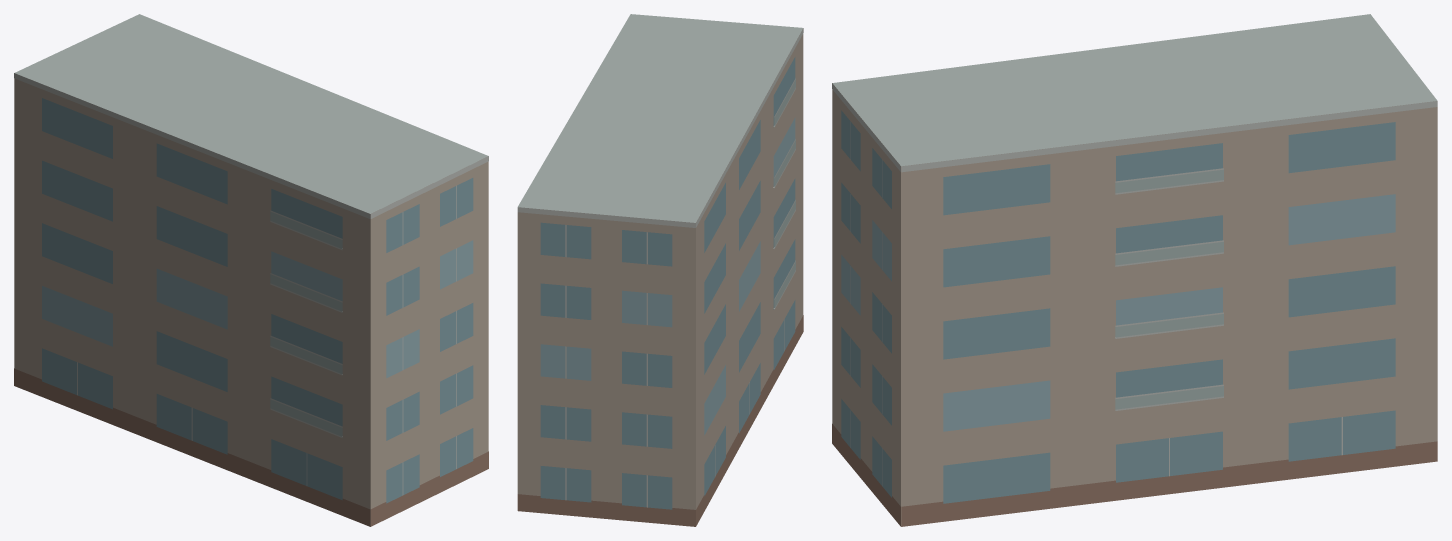
The model's file is survey-upis-32841126.glb.
The picture shows the model from 3 angles, left to right: view 1: azimuth 30°, elevation 25°; view 2: azimuth 150°, elevation 25°; view 3: azimuth 270°, elevation 25°; orthographic projection. The views are drawn at different scales.
Parts seen in each view (by area): view 1: survey-upis-32841126.tmp; view 2: survey-upis-32841126.tmp; view 3: survey-upis-32841126.tmp.
Part boxes in pixels (box(x1,y1,x2,y2)): survey-upis-32841126.tmp: box(14, 14, 488, 526); survey-upis-32841126.tmp: box(517, 14, 803, 526); survey-upis-32841126.tmp: box(832, 14, 1437, 526).
Bounding box in the file's own units: 13.18 × 14.54 × 22.14.
